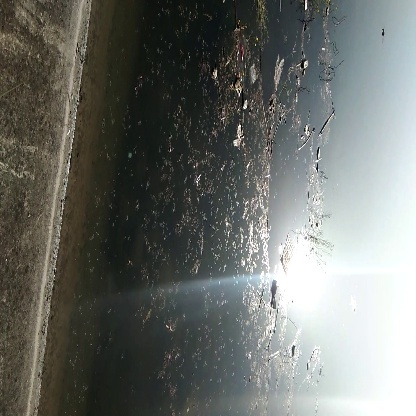branch: (315, 105, 339, 137)
